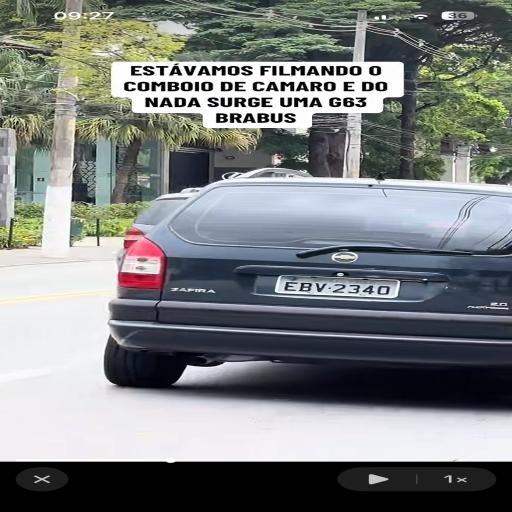detec-o-placas: (196, 241, 478, 335)
